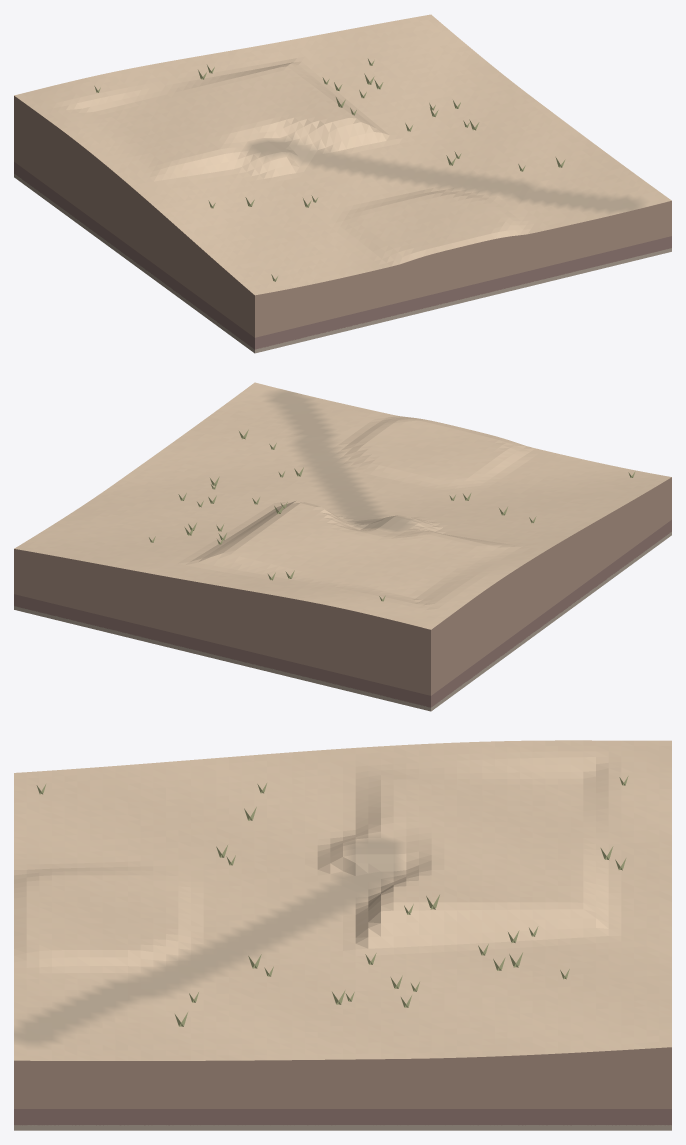
File: D07_proc.glb
3 views of the same model, one above another, from view 1: azimuth 30°, elevation 25°; view 2: azimuth 150°, elevation 25°; view 3: azimuth 270°, elevation 25° (orthographic). The views are drawn at different scales.
Visible parts, largest first — view 1: proc_ground, proc_skirt, proc_grass; view 2: proc_ground, proc_skirt, proc_grass; view 3: proc_ground, proc_skirt, proc_grass.
Part boxes in pixels (box(x1,y1,x2,y2)): proc_ground: box(14, 14, 671, 295); proc_skirt: box(14, 96, 671, 353); proc_grass: box(94, 59, 565, 281); proc_ground: box(14, 382, 671, 629); proc_skirt: box(14, 477, 671, 711); proc_grass: box(149, 429, 635, 601); proc_ground: box(14, 740, 671, 1060); proc_skirt: box(14, 1047, 671, 1130); proc_grass: box(36, 776, 628, 1026).
Size of the model in its own units: 8 by 1.61 by 8.
